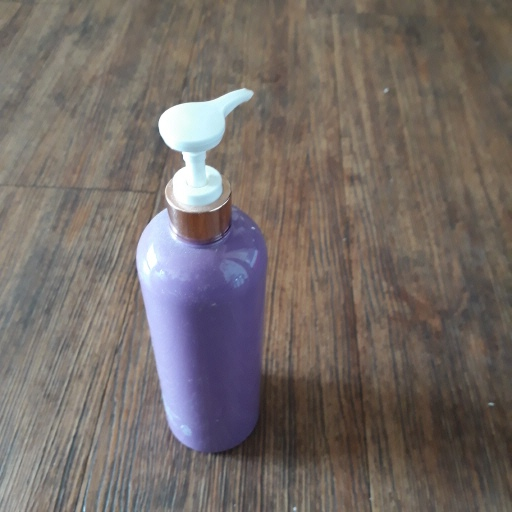Plastic_3: (125, 85, 274, 455)
